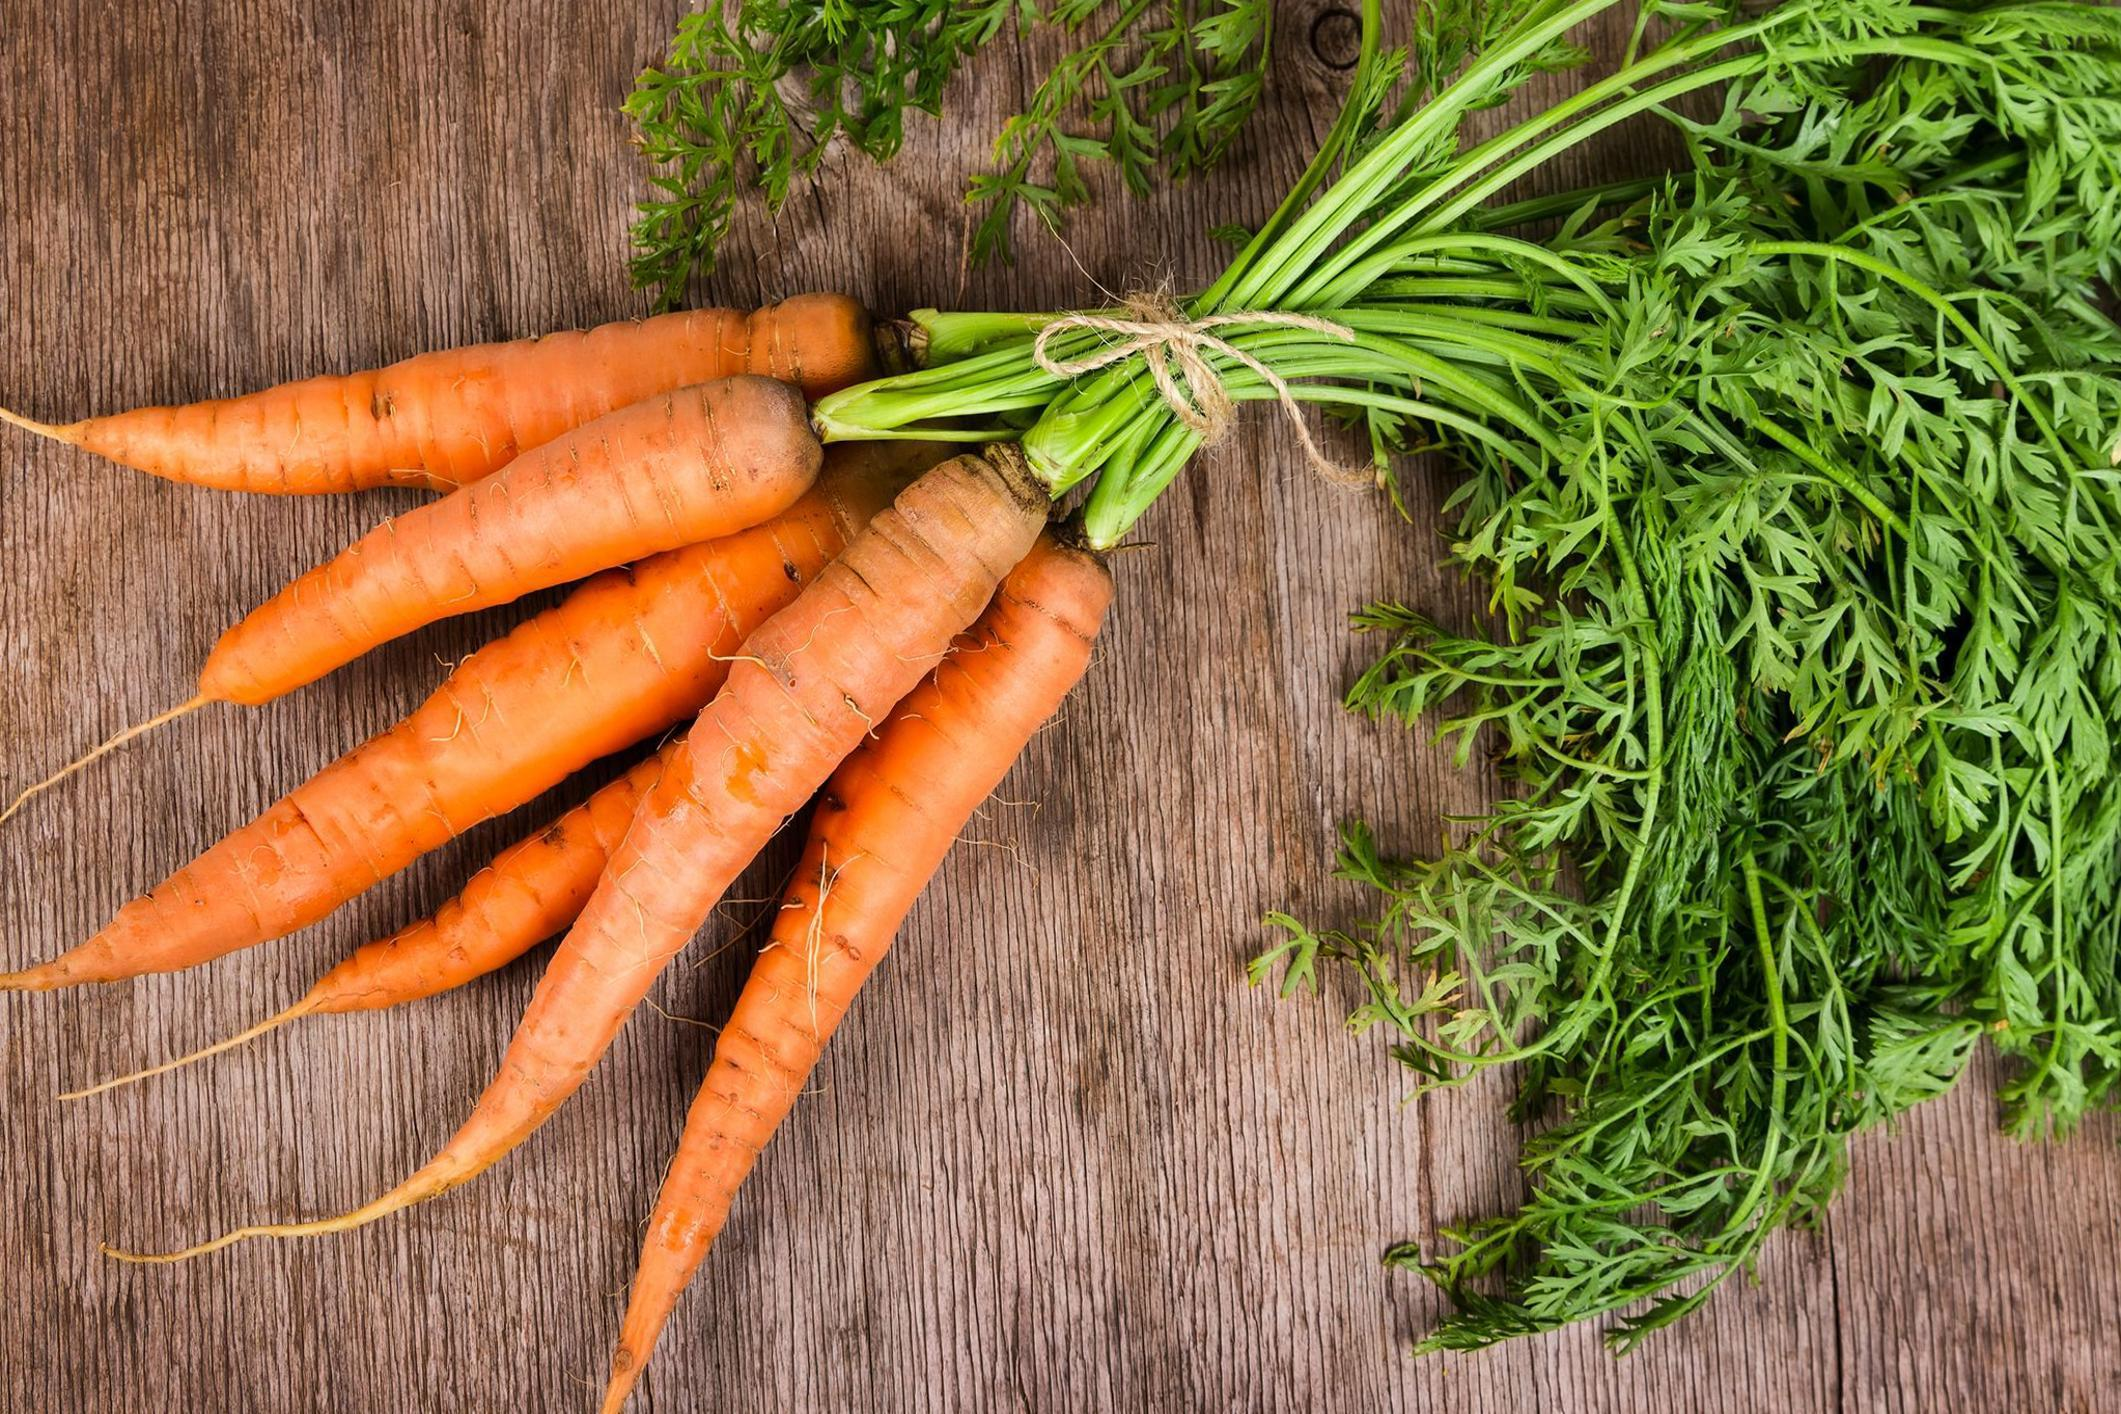carrot: (3, 331, 1010, 1414)
